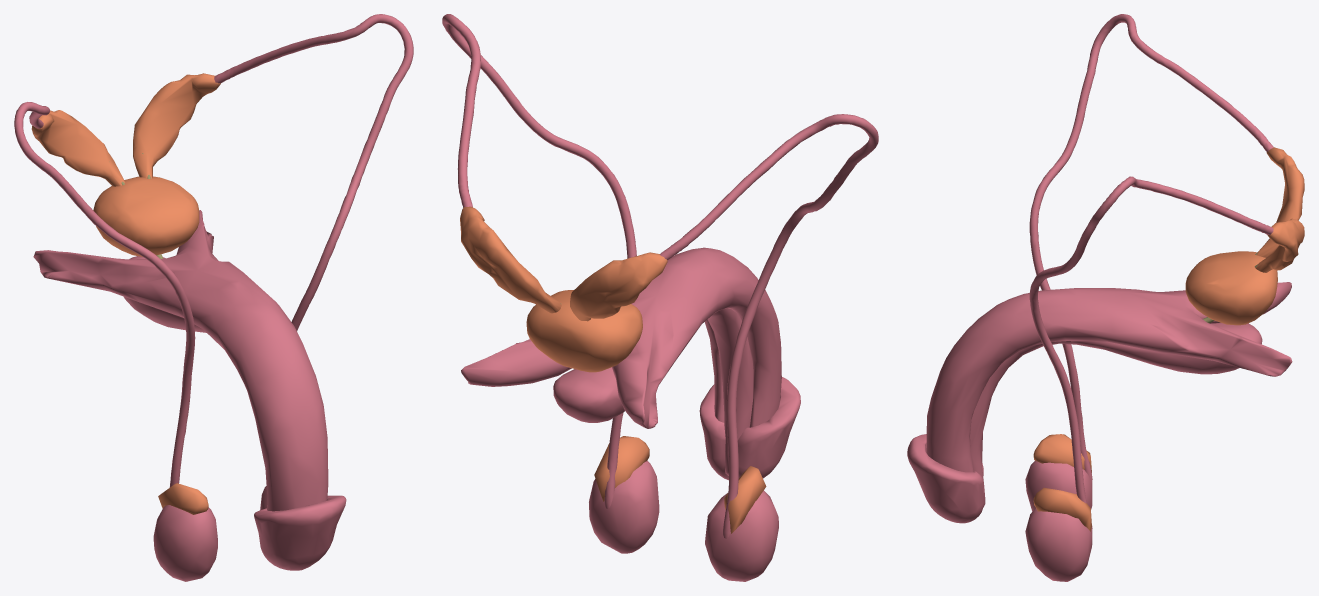
Rendered from pene.glb.
The picture shows the model from 3 angles, left to right: view 1: azimuth 30°, elevation 25°; view 2: azimuth 150°, elevation 25°; view 3: azimuth 270°, elevation 25°; orthographic projection. The views are drawn at different scales.
Visible parts, largest first — view 1: Corpus_cavernosum_of_penis_Generated_Mesh_From_X3D.126, Prostate_Generated_Mesh_From_X3D.904, Ductus_deferens.l_BezierCurve.287, Ductus_deferens.r_BezierCurve.287, Glans_penis_Generated_Mesh_From_X3D.111, Seminal_gland.l_Generated_Mesh_From_X3D.124, Testicle.r_Generated_Mesh_From_X3D.752, Seminal_gland.r_Generated_Mesh_From_X3D.124, Epididymis.r_Generated_Mesh_From_X3D.112, Corpus_spongiosum_of_penis_grp1.1507; view 2: Corpus_cavernosum_of_penis_Generated_Mesh_From_X3D.126, Ductus_deferens.r_BezierCurve.287, Corpus_spongiosum_of_penis_grp1.1507, Ductus_deferens.l_BezierCurve.287, Prostate_Generated_Mesh_From_X3D.904, Glans_penis_Generated_Mesh_From_X3D.111, Testicle.r_Generated_Mesh_From_X3D.752, Testicle.l_Generated_Mesh_From_X3D.752, Seminal_gland.r_Generated_Mesh_From_X3D.124, Seminal_gland.l_Generated_Mesh_From_X3D.124, Epididymis.l_Generated_Mesh_From_X3D.112, Epididymis.r_Generated_Mesh_From_X3D.112; view 3: Corpus_cavernosum_of_penis_Generated_Mesh_From_X3D.126, Ductus_deferens.r_BezierCurve.287, Prostate_Generated_Mesh_From_X3D.904, Ductus_deferens.l_BezierCurve.287, Corpus_spongiosum_of_penis_grp1.1507, Testicle.l_Generated_Mesh_From_X3D.752, Glans_penis_Generated_Mesh_From_X3D.111, Seminal_gland.r_Generated_Mesh_From_X3D.124, Testicle.r_Generated_Mesh_From_X3D.752, Seminal_gland.l_Generated_Mesh_From_X3D.124, Epididymis.l_Generated_Mesh_From_X3D.112, Epididymis.r_Generated_Mesh_From_X3D.112.
Boxes of the visible parts, x1,y1,x2,y2 form: Corpus_cavernosum_of_penis_Generated_Mesh_From_X3D.126: (33,210,328,511); Prostate_Generated_Mesh_From_X3D.904: (93,176,199,256); Ductus_deferens.l_BezierCurve.287: (214,14,413,330); Ductus_deferens.r_BezierCurve.287: (14,102,195,487); Glans_penis_Generated_Mesh_From_X3D.111: (254,495,346,570); Seminal_gland.l_Generated_Mesh_From_X3D.124: (133,73,220,178); Testicle.r_Generated_Mesh_From_X3D.752: (153,505,217,581); Seminal_gland.r_Generated_Mesh_From_X3D.124: (31,110,125,186); Epididymis.r_Generated_Mesh_From_X3D.112: (158,483,208,514); Corpus_spongiosum_of_penis_grp1.1507: (124,256,206,332); Corpus_cavernosum_of_penis_Generated_Mesh_From_X3D.126: (461,247,781,428); Ductus_deferens.r_BezierCurve.287: (660,114,878,538); Corpus_spongiosum_of_penis_grp1.1507: (553,308,753,475); Ductus_deferens.l_BezierCurve.287: (442,14,636,508); Prostate_Generated_Mesh_From_X3D.904: (526,290,642,372); Glans_penis_Generated_Mesh_From_X3D.111: (699,377,800,480); Testicle.r_Generated_Mesh_From_X3D.752: (705,490,778,581); Testicle.l_Generated_Mesh_From_X3D.752: (589,461,659,553); Seminal_gland.r_Generated_Mesh_From_X3D.124: (570,252,667,321); Seminal_gland.l_Generated_Mesh_From_X3D.124: (460,206,561,313); Epididymis.l_Generated_Mesh_From_X3D.112: (594,436,649,501); Epididymis.r_Generated_Mesh_From_X3D.112: (724,466,766,533); Corpus_cavernosum_of_penis_Generated_Mesh_From_X3D.126: (926,282,1292,472); Ductus_deferens.r_BezierCurve.287: (1029,14,1273,484); Prostate_Generated_Mesh_From_X3D.904: (1185,251,1277,325); Ductus_deferens.l_BezierCurve.287: (1029,176,1273,533); Corpus_spongiosum_of_penis_grp1.1507: (970,322,1262,507); Testicle.l_Generated_Mesh_From_X3D.752: (1025,508,1092,581); Glans_penis_Generated_Mesh_From_X3D.111: (907,434,983,523); Seminal_gland.r_Generated_Mesh_From_X3D.124: (1256,147,1304,257); Testicle.r_Generated_Mesh_From_X3D.752: (1025,460,1092,511); Seminal_gland.l_Generated_Mesh_From_X3D.124: (1255,218,1304,272); Epididymis.l_Generated_Mesh_From_X3D.112: (1033,487,1091,531); Epididymis.r_Generated_Mesh_From_X3D.112: (1033,434,1091,472).
Size of the model in its own units: 1.26 by 1.48 by 1.16.
